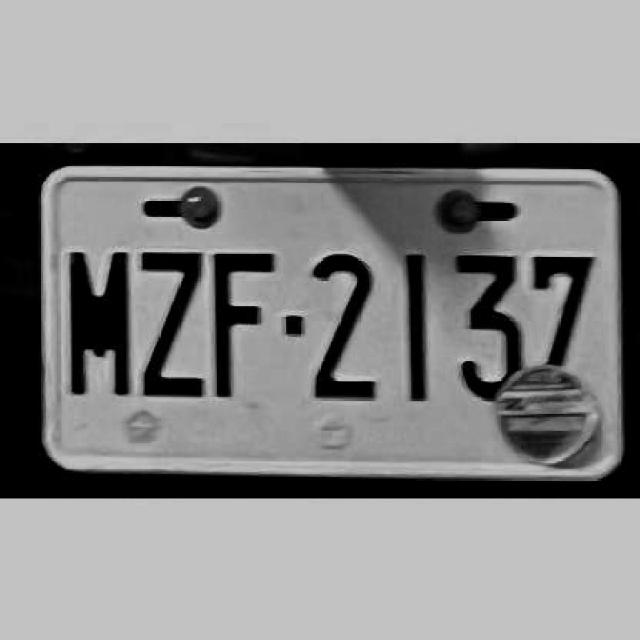-: (283, 311, 305, 338)
1: (406, 255, 426, 400)
2: (306, 248, 380, 406)
3: (454, 250, 523, 398)
7: (529, 246, 594, 374)
F: (209, 248, 277, 395)
M: (63, 249, 131, 403)
Z: (136, 249, 204, 403)
